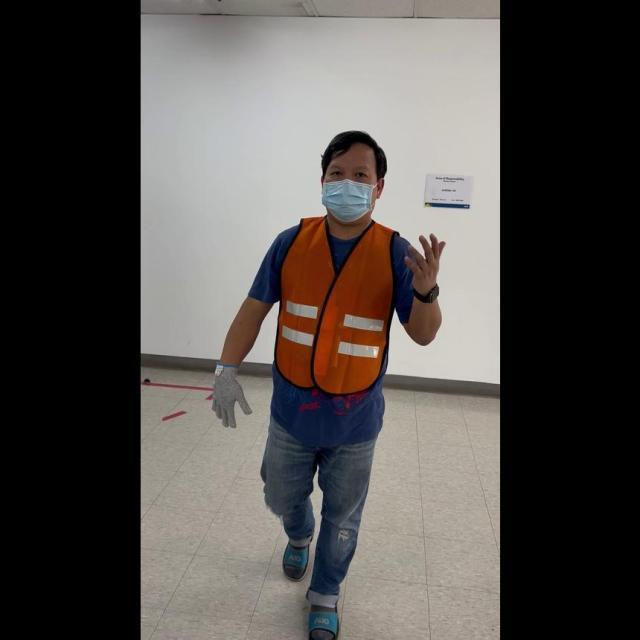bare_hand: (400, 226, 444, 298)
gloved_hand: (206, 362, 253, 425)
